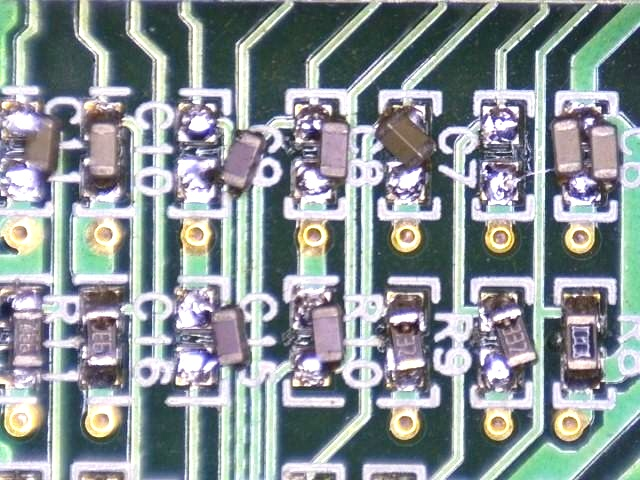pcb_defect: (176, 103, 266, 202), (175, 288, 251, 385), (551, 105, 619, 200), (0, 101, 62, 202), (374, 105, 438, 202), (291, 104, 350, 204), (479, 291, 537, 391), (291, 289, 345, 387), (0, 285, 43, 388), (385, 290, 428, 389)
